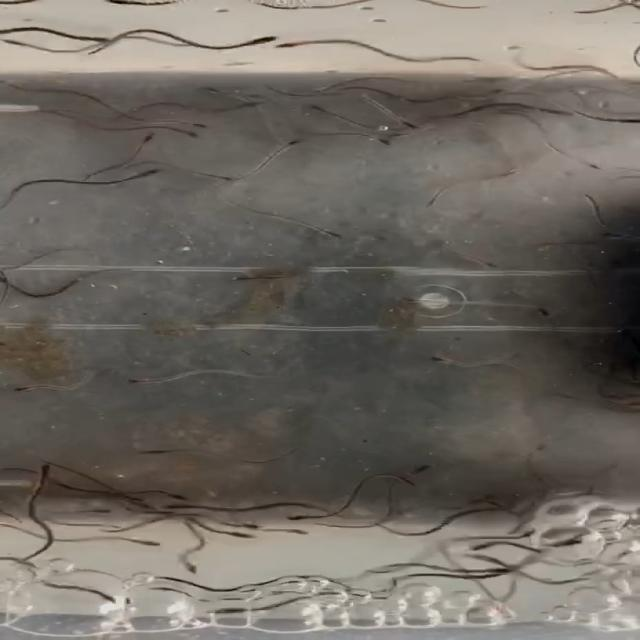active_glass_eel: (474, 556, 522, 584), (234, 26, 279, 48), (310, 218, 348, 244), (464, 78, 512, 98), (274, 36, 312, 60), (414, 352, 451, 376), (280, 500, 316, 522), (408, 197, 473, 209), (116, 376, 156, 394), (466, 255, 506, 273), (572, 154, 608, 172), (464, 542, 502, 558), (180, 125, 208, 146), (154, 506, 202, 518), (408, 462, 448, 476), (10, 378, 38, 397), (140, 168, 173, 184), (180, 558, 208, 576), (125, 126, 156, 142), (278, 134, 308, 150), (129, 534, 159, 550), (310, 105, 338, 122), (238, 516, 264, 534), (204, 600, 236, 614), (239, 528, 263, 546), (390, 118, 424, 130), (30, 458, 52, 474), (170, 490, 195, 502), (183, 117, 206, 129), (208, 171, 230, 183)
